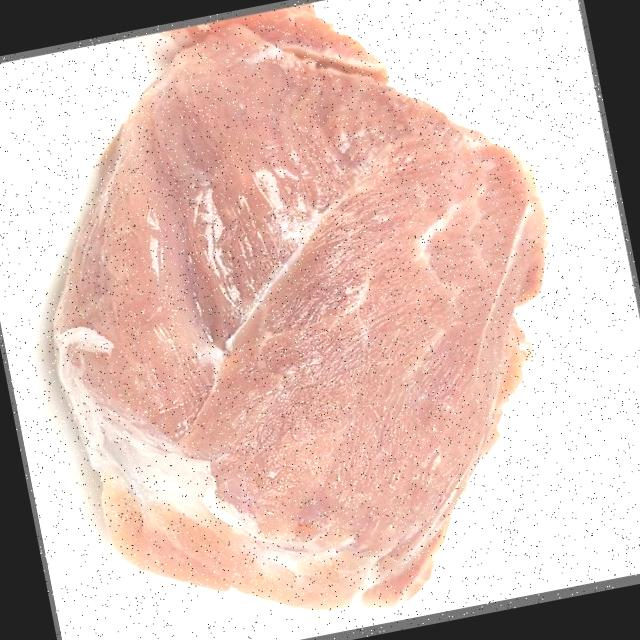pork: (53, 25, 546, 592)
